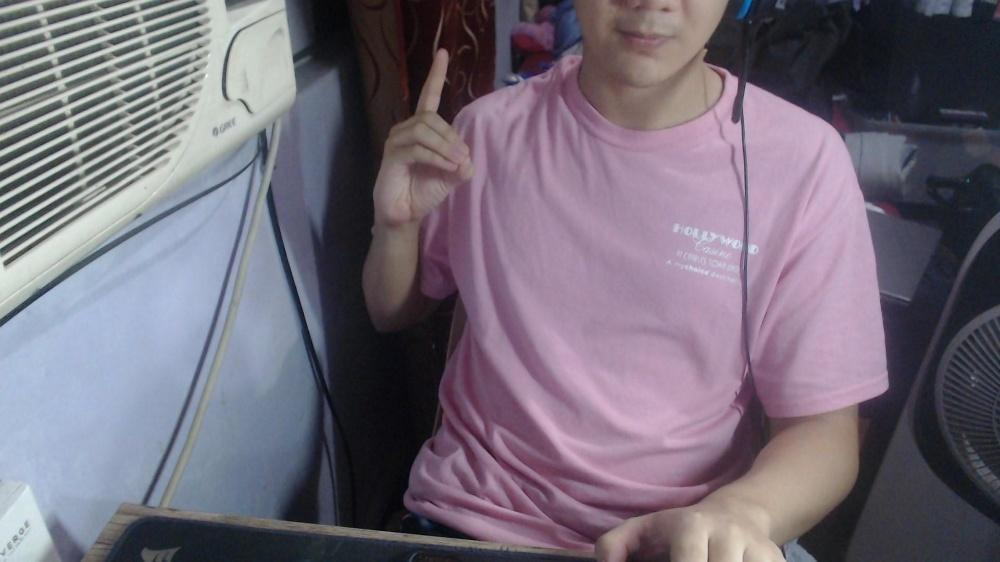d: (370, 45, 476, 229)
